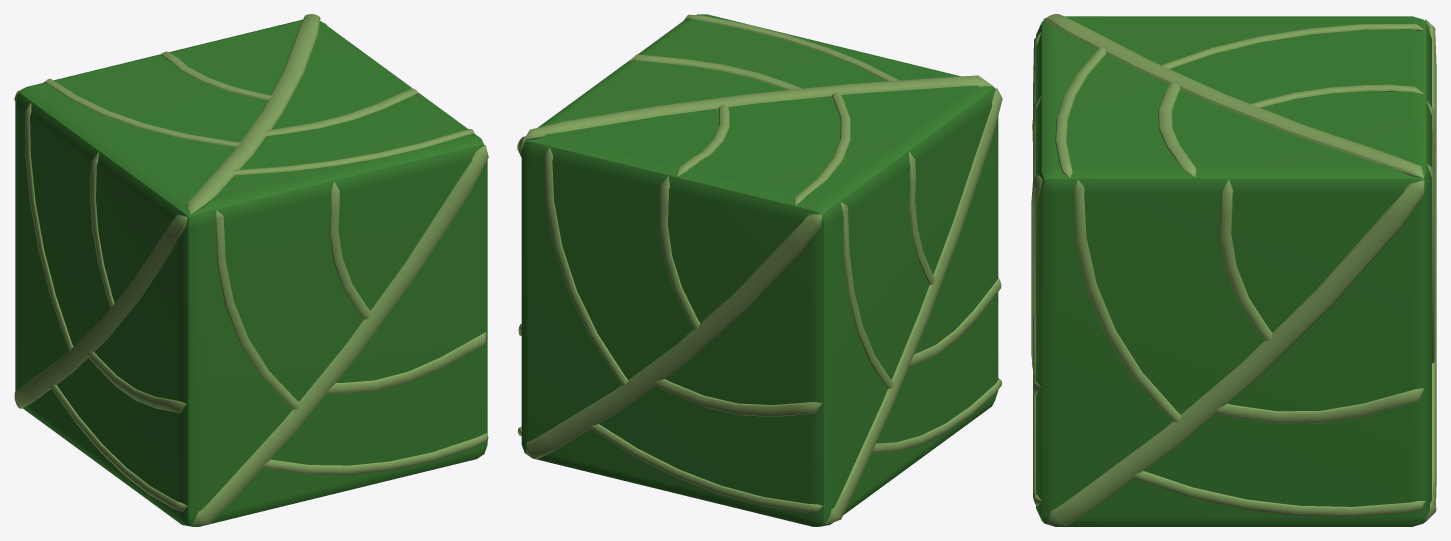
File: leafblock.fbx
3 views of the same model, side by side, from view 1: azimuth 30°, elevation 25°; view 2: azimuth 150°, elevation 25°; view 3: azimuth 270°, elevation 25° (orthographic). The views are drawn at different scales.
Visible parts, largest first — view 1: leafblock1:pCube1, leafblock1:pCylinder1 (×3), leafblock1:pCylinder7 (×3), leafblock1:pCylinder6 (×3), leafblock1:pCylinder5 (×3), leafblock1:pCylinder3 (×3); view 2: leafblock1:pCube1, leafblock1:pCylinder1 (×3), leafblock1:pCylinder7 (×3), leafblock1:pCylinder6 (×3), leafblock1:pCylinder5 (×3), leafblock1:pCylinder3 (×3); view 3: leafblock1:pCube1, leafblock1:pCylinder1 (×4), leafblock1:pCylinder6 (×3), leafblock1:pCylinder7 (×2), leafblock1:pCylinder5 (×2), leafblock1:pCylinder3 (×2).
Part boxes in pixels (x1=…): leafblock1:pCube1: x1=15, y1=19, x2=487, y2=526; leafblock1:pCylinder1 (×3): x1=14, y1=14, x2=488, y2=525; leafblock1:pCylinder7 (×3): x1=50, y1=129, x2=487, y2=511; leafblock1:pCylinder6 (×3): x1=25, y1=78, x2=299, y2=409; leafblock1:pCylinder5 (×3): x1=87, y1=88, x2=486, y2=412; leafblock1:pCylinder3 (×3): x1=90, y1=51, x2=371, y2=319; leafblock1:pCube1: x1=521, y1=14, x2=998, y2=526; leafblock1:pCylinder1 (×3): x1=524, y1=75, x2=1002, y2=524; leafblock1:pCylinder7 (×3): x1=590, y1=14, x2=1001, y2=512; leafblock1:pCylinder6 (×3): x1=544, y1=92, x2=893, y2=388; leafblock1:pCylinder5 (×3): x1=628, y1=54, x2=1001, y2=416; leafblock1:pCylinder3 (×3): x1=658, y1=104, x2=934, y2=329; leafblock1:pCube1: x1=1036, y1=16, x2=1431, y2=526; leafblock1:pCylinder1 (×4): x1=1031, y1=14, x2=1436, y2=526; leafblock1:pCylinder6 (×3): x1=1073, y1=24, x2=1434, y2=422; leafblock1:pCylinder7 (×2): x1=1055, y1=47, x2=1425, y2=517; leafblock1:pCylinder5 (×2): x1=1158, y1=82, x2=1424, y2=423; leafblock1:pCylinder3 (×2): x1=1219, y1=84, x2=1425, y2=341.
Size of the model in its own units: 51.19 by 50.6 by 51.19.
